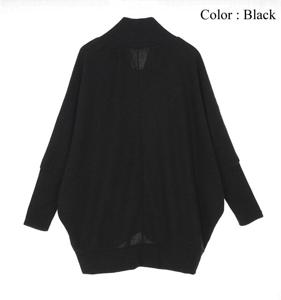S_cardigan sweater: (42, 29, 258, 278)
